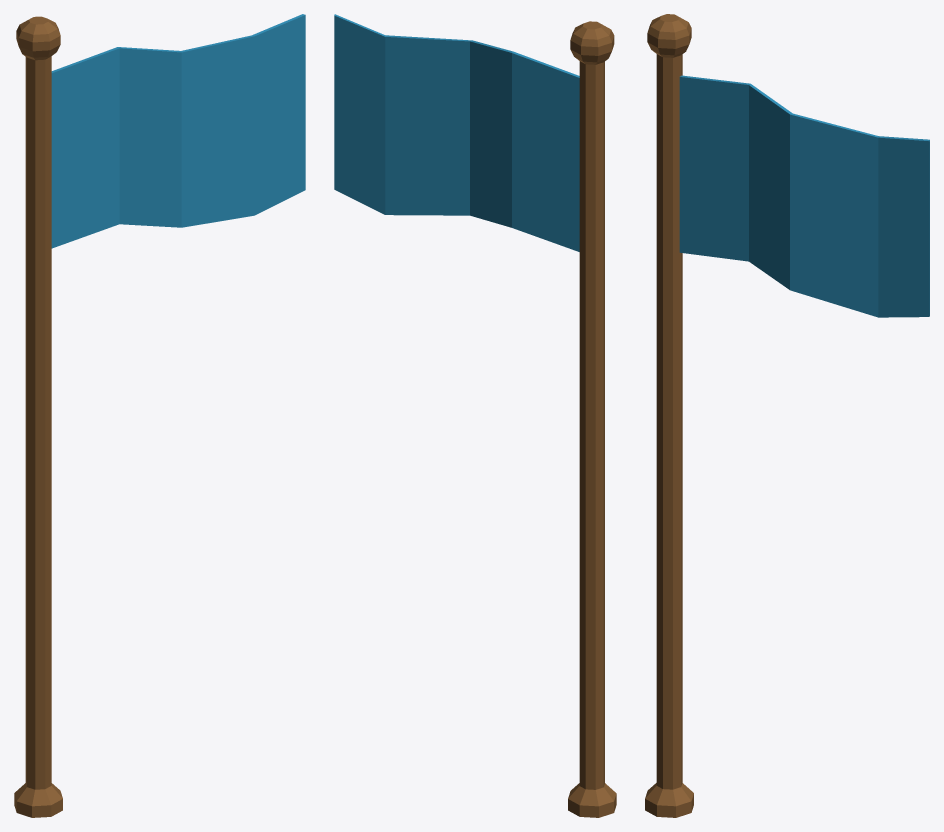
The model's file is Flag.fbx.
3 views of the same model, side by side, from view 1: azimuth 30°, elevation 25°; view 2: azimuth 150°, elevation 25°; view 3: azimuth 330°, elevation 25° (orthographic).
Visible parts, largest first — view 1: pCube2; view 2: pCube2; view 3: pCube2.
Part boxes in pixels (x1,y1,x2,y2): pCube2: (14,14,305,817); pCube2: (334,14,616,817); pCube2: (645,14,929,817).
Size of the model in its own units: 0.3289 by 0.8676 by 0.0506.
